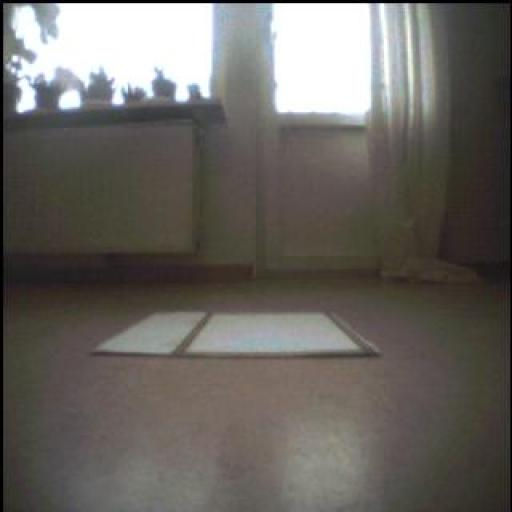Pad: (101, 313, 387, 353)
